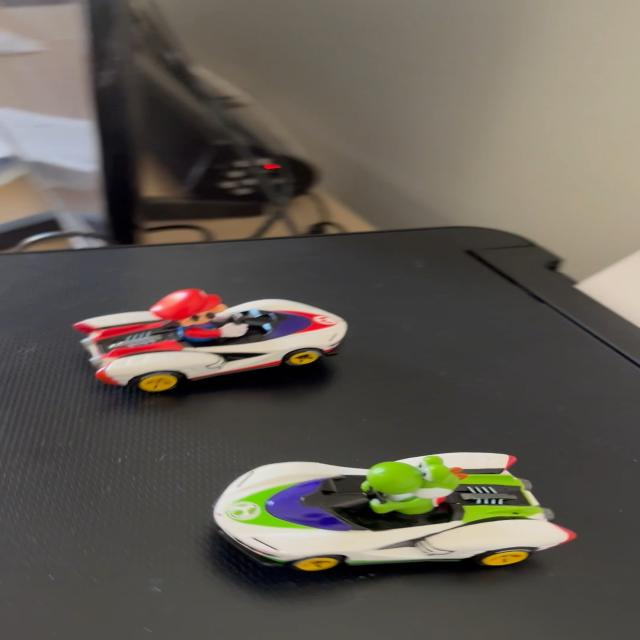mario: (54, 285, 361, 391)
yoshi: (216, 444, 576, 582)
